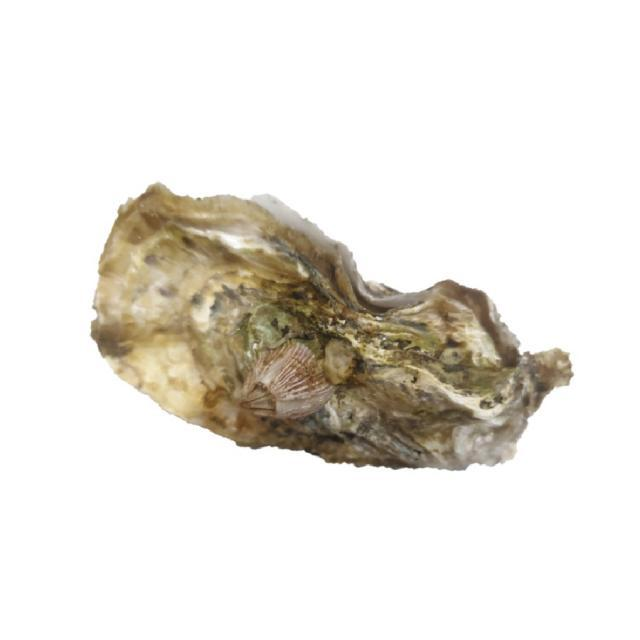Oyster- Indeterminate: (85, 178, 578, 478)
